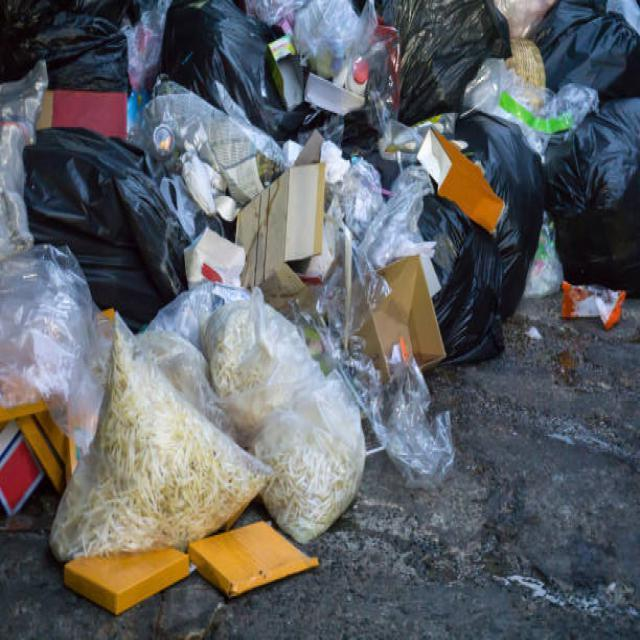Trashbag: (15, 123, 190, 325), (159, 0, 312, 146), (536, 98, 640, 300), (377, 1, 511, 131), (410, 199, 507, 370), (0, 0, 145, 98), (531, 0, 640, 104), (456, 115, 548, 237)
